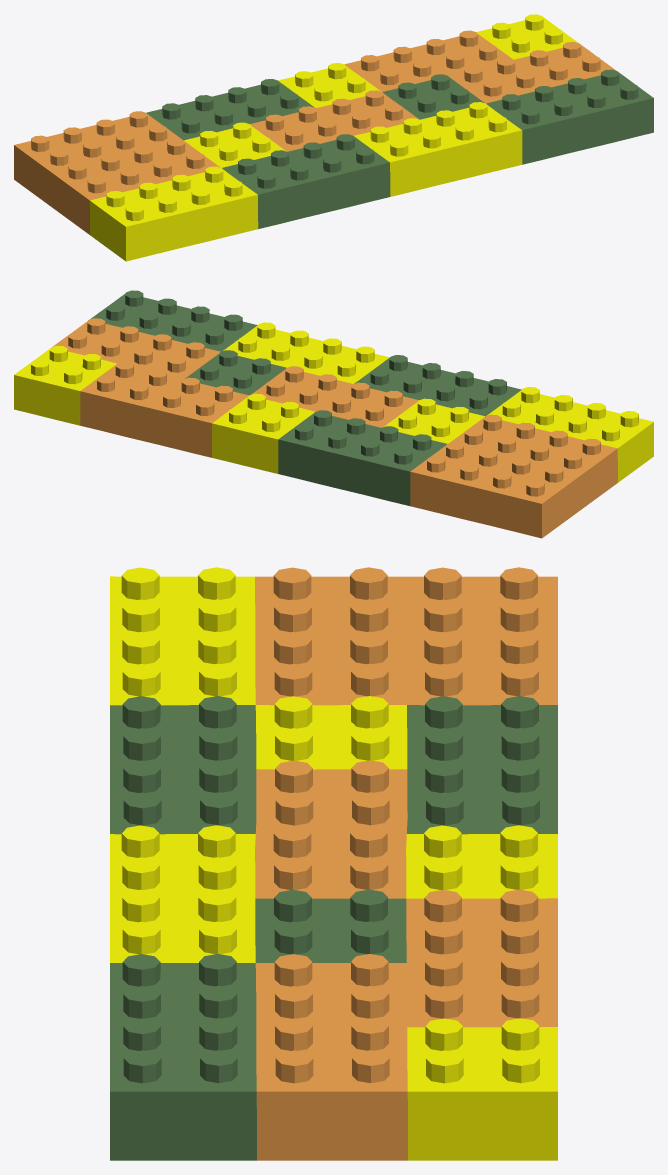
Rendered from LegoFloor (1).fbx.
3 views of the same model, one above another, from view 1: azimuth 30°, elevation 25°; view 2: azimuth 150°, elevation 25°; view 3: azimuth 270°, elevation 25° (orthographic). The views are drawn at different scales.
Parts seen in each view (by area): view 1: polySurface8016; view 2: polySurface8016; view 3: polySurface8016.
Boxes of the visible parts, bbox=[...] form: polySurface8016: bbox=[14, 14, 653, 261]; polySurface8016: bbox=[14, 290, 653, 538]; polySurface8016: bbox=[110, 567, 557, 1160].
Size of the model in its own units: 98.76 by 7.76 by 36.3.
